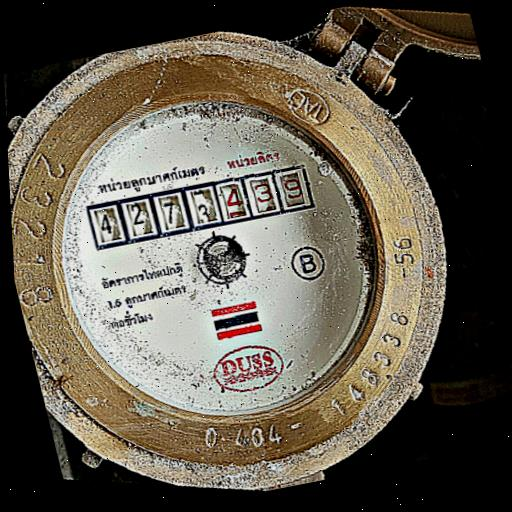2: (125, 202, 154, 237)
3: (249, 177, 276, 214), (191, 190, 217, 225)
4: (220, 184, 247, 221), (95, 209, 122, 243)
7: (159, 196, 185, 231)
9: (279, 173, 306, 206)
border_water_meter_number: (83, 163, 319, 251)
